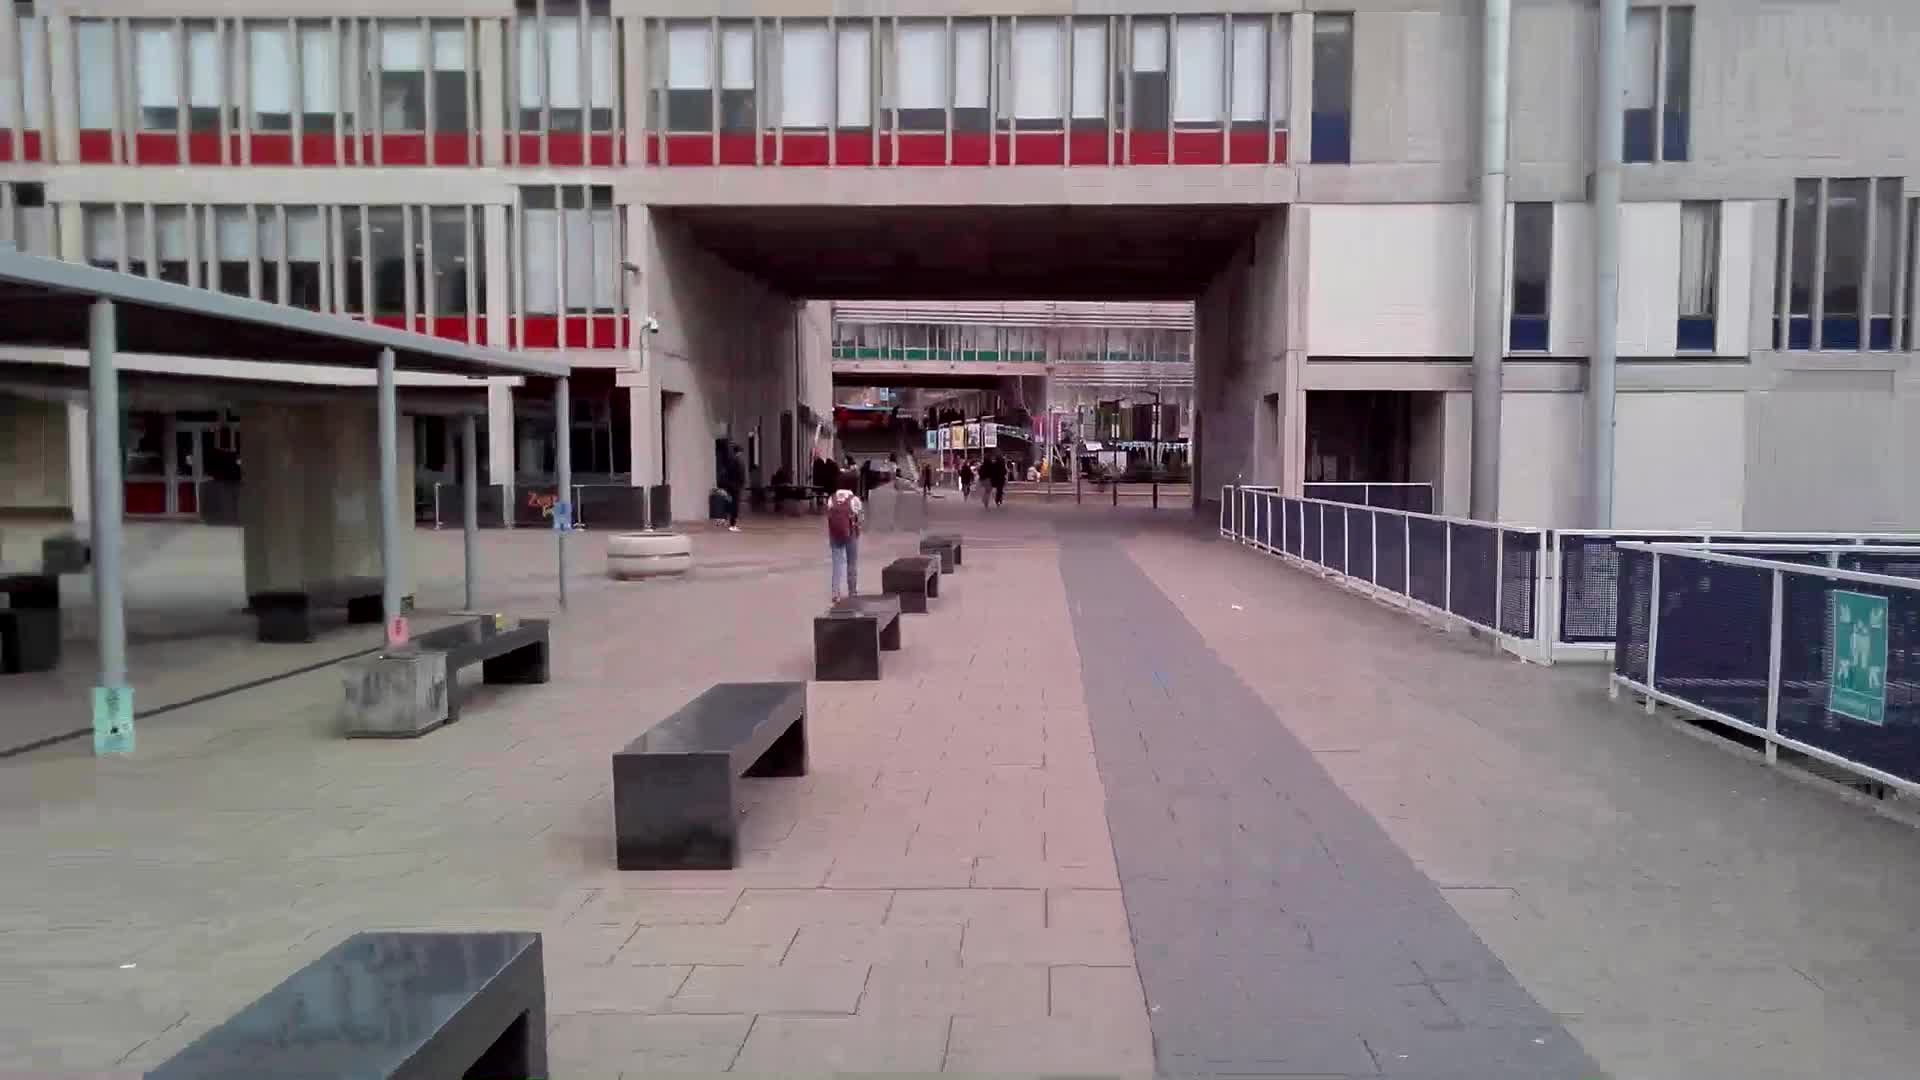Backpack: (825, 497, 862, 545)
Bench: (140, 930, 565, 1080), (612, 683, 810, 871), (340, 615, 558, 729), (813, 597, 906, 691), (888, 546, 940, 610), (917, 527, 970, 566)
Person: (824, 471, 864, 603)
